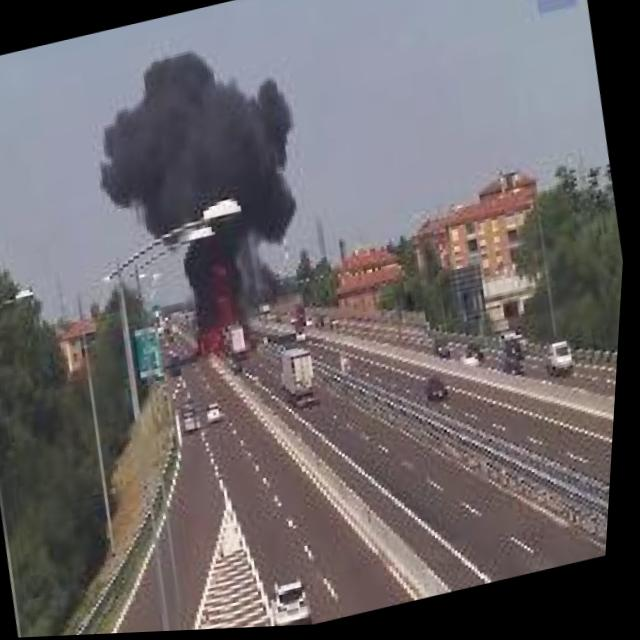fire: (186, 256, 263, 364)
